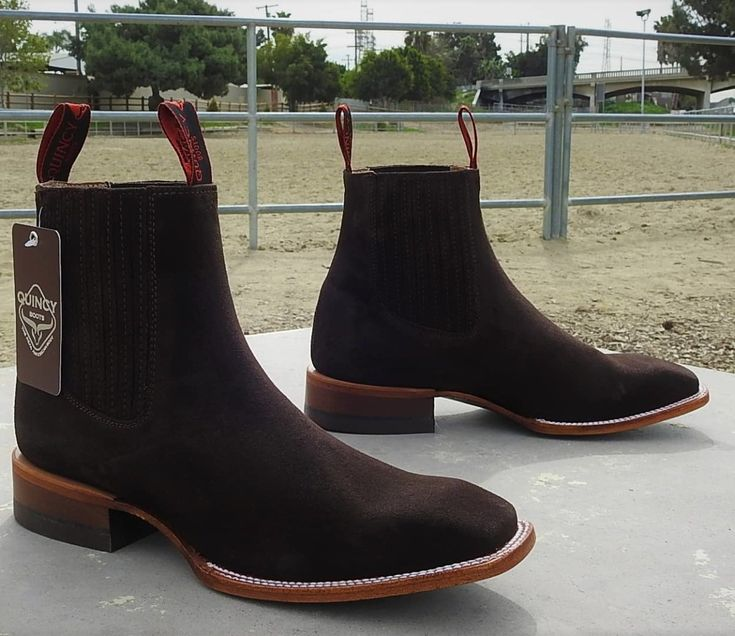gamuza: (17, 165, 700, 582)
